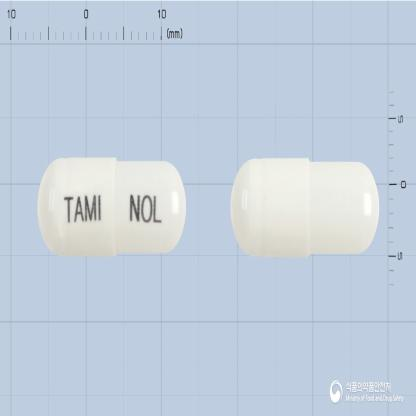pill: (36, 153, 188, 257), (229, 155, 380, 257)
